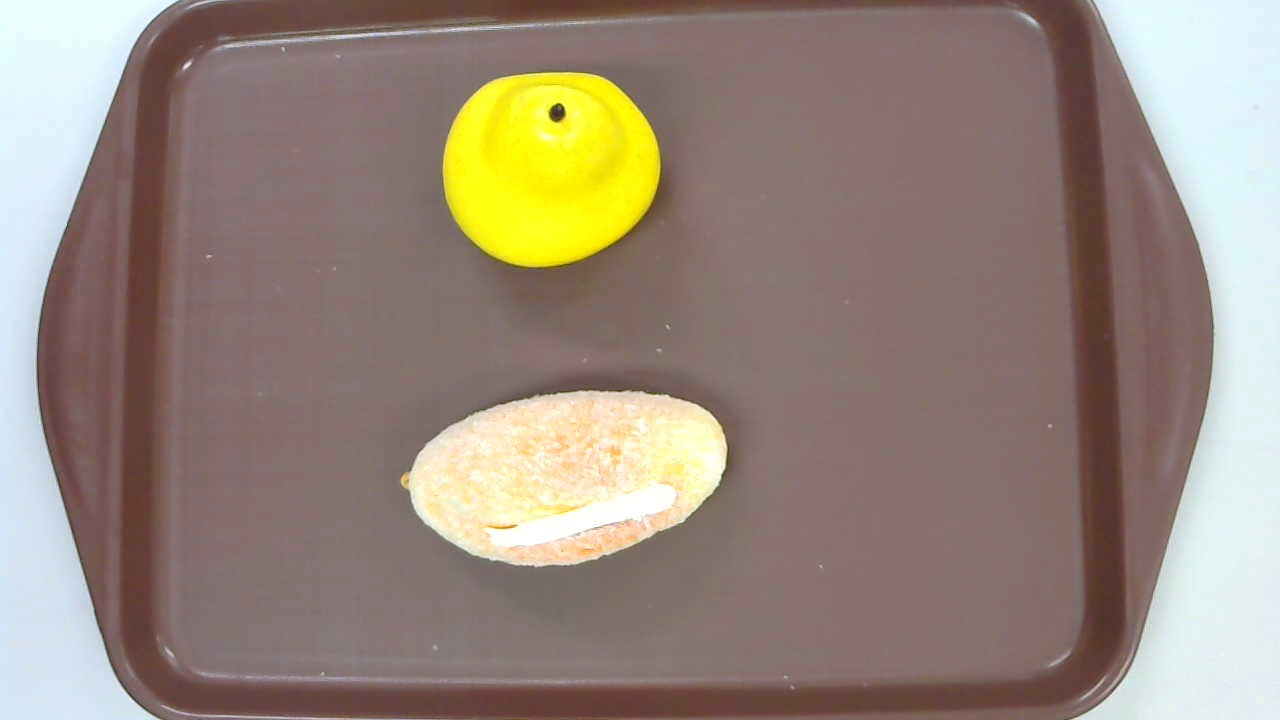coconut: (400, 389, 728, 566)
yellow pear: (443, 73, 663, 270)
